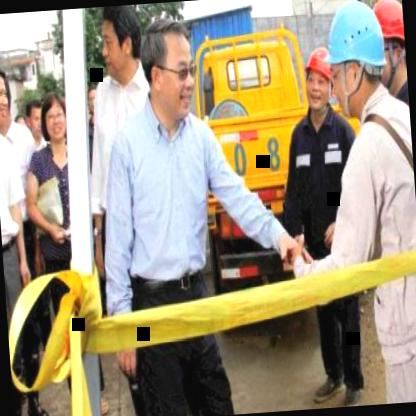head: (138, 20, 205, 130), (92, 5, 146, 86), (38, 88, 67, 146), (22, 96, 45, 138), (0, 58, 12, 131)
helmet: (329, 0, 394, 114), (298, 41, 338, 113), (377, 2, 408, 90)
